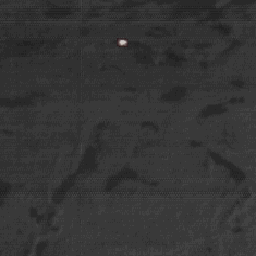Target: (119, 39, 127, 46)
